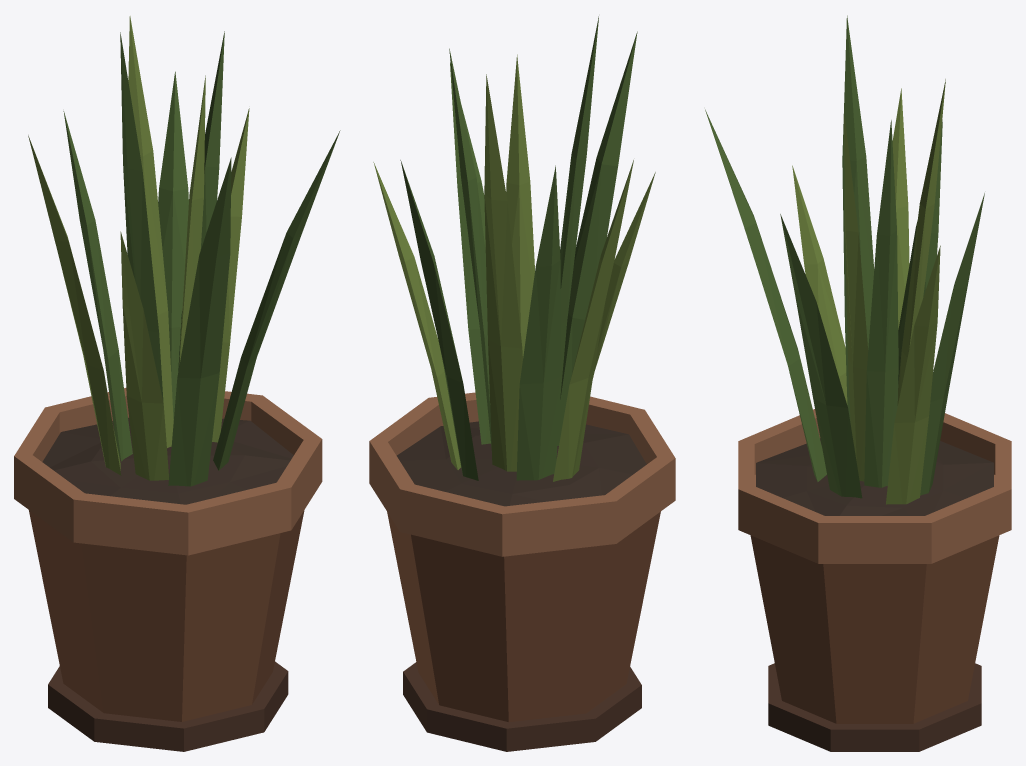
File: Flowerpot.fbx
3 views of the same model, side by side, from view 1: azimuth 30°, elevation 25°; view 2: azimuth 150°, elevation 25°; view 3: azimuth 270°, elevation 25° (orthographic). The views are drawn at different scales.
Parts seen in each view (by area): view 1: Flowerpot_Body, Flowerpot_LeavesDark, Flowerpot_Rim, Flowerpot_LeavesLight, Flowerpot_Soil, Flowerpot_Foot; view 2: Flowerpot_Body, Flowerpot_LeavesDark, Flowerpot_LeavesLight, Flowerpot_Rim, Flowerpot_Soil, Flowerpot_Foot; view 3: Flowerpot_Body, Flowerpot_LeavesDark, Flowerpot_LeavesLight, Flowerpot_Rim, Flowerpot_Soil, Flowerpot_Foot.
Part boxes in pixels (x1,y1,x2,y2): Flowerpot_Body: (29,510,304,721); Flowerpot_LeavesDark: (63,31,340,486); Flowerpot_Rim: (14,388,322,555); Flowerpot_LeavesLight: (28,16,249,480); Flowerpot_Soil: (42,417,293,504); Flowerpot_Foot: (48,661,288,751); Flowerpot_Body: (387,511,660,722); Flowerpot_LeavesDark: (400,16,637,480); Flowerpot_LeavesLight: (373,54,655,481); Flowerpot_Rim: (369,392,675,556); Flowerpot_Soil: (397,421,646,506); Flowerpot_Foot: (403,662,641,751); Flowerpot_Body: (750,535,999,723); Flowerpot_LeavesDark: (705,15,984,498); Flowerpot_LeavesLight: (792,79,945,504); Flowerpot_Rim: (738,409,1011,563); Flowerpot_Soil: (756,438,993,515); Flowerpot_Foot: (768,663,981,751).
Size of the model in its own units: 2.02 by 5.35 by 2.25.
